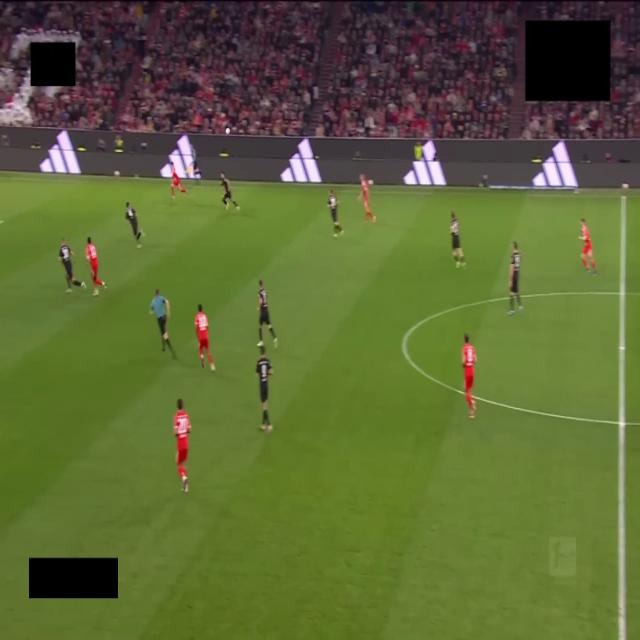ball: (225, 128, 230, 135)
player: (174, 400, 191, 493), (256, 346, 274, 433), (59, 239, 85, 293), (258, 280, 278, 348), (195, 304, 215, 371), (85, 237, 106, 295), (462, 334, 476, 418), (509, 242, 523, 315), (580, 218, 597, 274), (450, 212, 466, 268), (358, 175, 375, 223), (126, 202, 144, 247), (328, 190, 343, 237), (221, 172, 239, 210), (171, 162, 186, 199)
referee: (150, 289, 175, 359)
